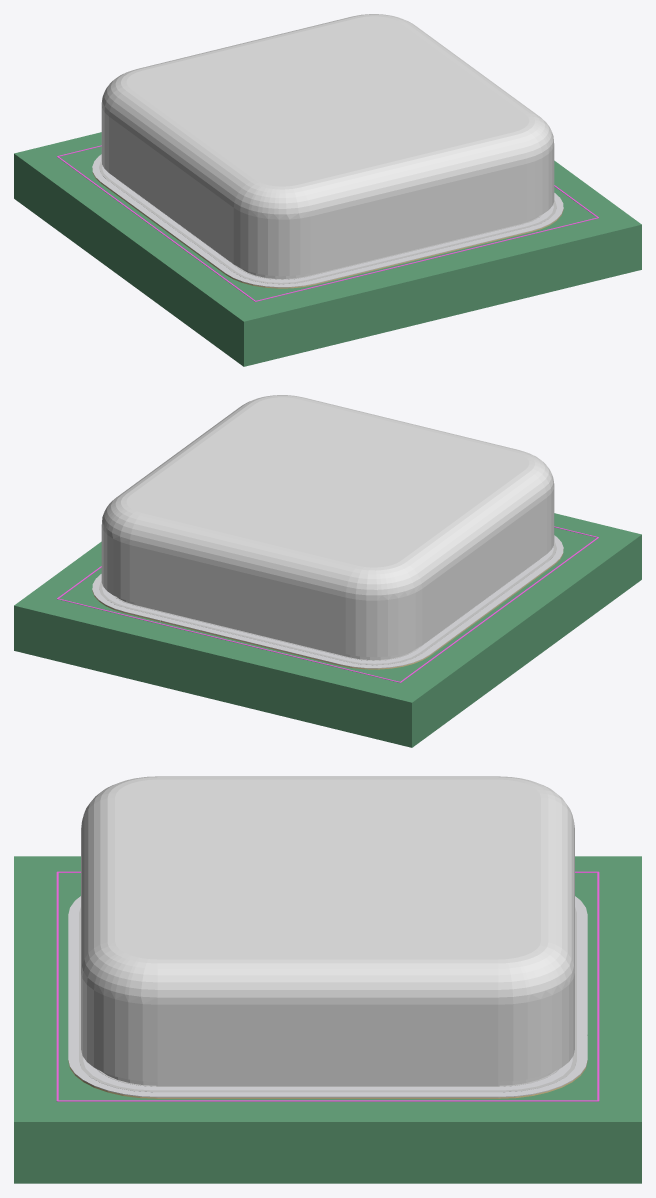
The model's file is head.glb.
The picture shows the model from 3 angles, top to bottom: view 1: azimuth 30°, elevation 25°; view 2: azimuth 150°, elevation 25°; view 3: azimuth 270°, elevation 25°; orthographic projection. The views are drawn at different scales.
Visible parts, largest first — view 1: model_2_0_MS110-10C, PCB, F.Paste, F.Fab, F.CrtYd, model_1_0_MS110-10F, F.Cu; view 2: model_2_0_MS110-10C, PCB, F.Paste, F.Fab, F.CrtYd, model_1_0_MS110-10F, F.Cu; view 3: model_2_0_MS110-10C, PCB, F.Paste, F.Fab, F.CrtYd, model_1_0_MS110-10F, F.Cu.
Part boxes in pixels (<box>): model_2_0_MS110-10C: <box>101,14,554,276</box>; PCB: <box>14,132,641,366</box>; F.Paste: <box>92,154,563,287</box>; F.Fab: <box>99,161,556,284</box>; F.CrtYd: <box>57,145,598,301</box>; model_1_0_MS110-10F: <box>242,216,538,278</box>; F.Cu: <box>92,169,563,288</box>; model_2_0_MS110-10C: <box>101,395,554,657</box>; PCB: <box>14,513,641,747</box>; F.Paste: <box>92,535,563,668</box>; F.Fab: <box>99,542,556,665</box>; F.CrtYd: <box>57,526,598,682</box>; model_1_0_MS110-10F: <box>117,597,413,659</box>; F.Cu: <box>92,550,563,669</box>; model_2_0_MS110-10C: <box>81,776,574,1081</box>; PCB: <box>14,856,641,1183</box>; F.Paste: <box>68,896,587,1097</box>; F.Fab: <box>79,907,576,1092</box>; F.CrtYd: <box>56,871,599,1101</box>; model_1_0_MS110-10F: <box>102,1072,553,1085</box>; F.Cu: <box>68,1061,587,1098</box>.
Size of the model in its own units: 14.75 by 4.7 by 14.75.
